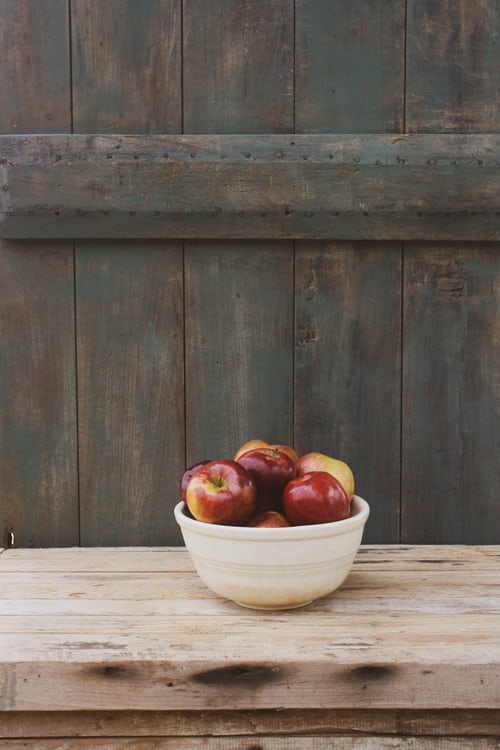apple: (186, 458, 259, 528), (231, 447, 295, 507), (283, 471, 351, 522), (295, 450, 353, 497)
